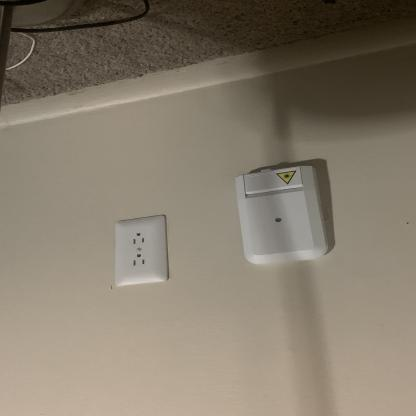OUTLET: (114, 214, 168, 286)
